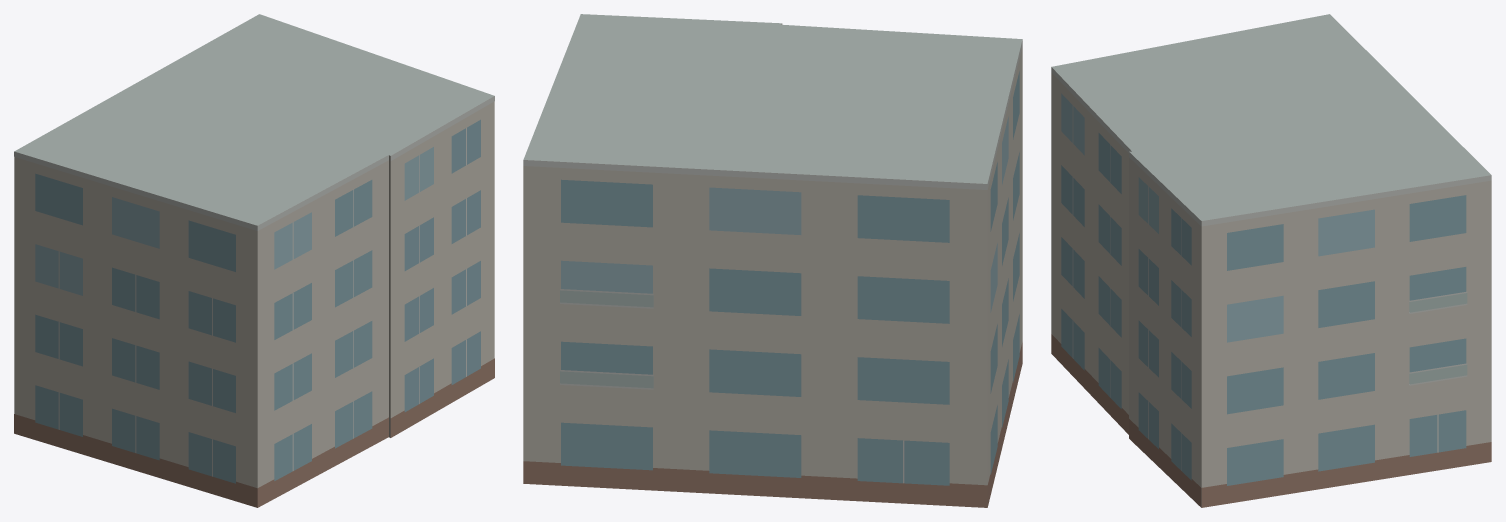
The model's file is survey-upis-32971920.glb.
3 views of the same model, side by side, from view 1: azimuth 30°, elevation 25°; view 2: azimuth 150°, elevation 25°; view 3: azimuth 270°, elevation 25° (orthographic). The views are drawn at different scales.
Visible parts, largest first — view 1: survey-upis-32971920.tmp; view 2: survey-upis-32971920.tmp; view 3: survey-upis-32971920.tmp.
Part boxes in pixels (x1,y1,x2,y2): survey-upis-32971920.tmp: (14, 14, 494, 507); survey-upis-32971920.tmp: (523, 14, 1022, 507); survey-upis-32971920.tmp: (1051, 14, 1491, 507).
Bounding box in the file's own units: 20.14 × 13 × 18.1.
